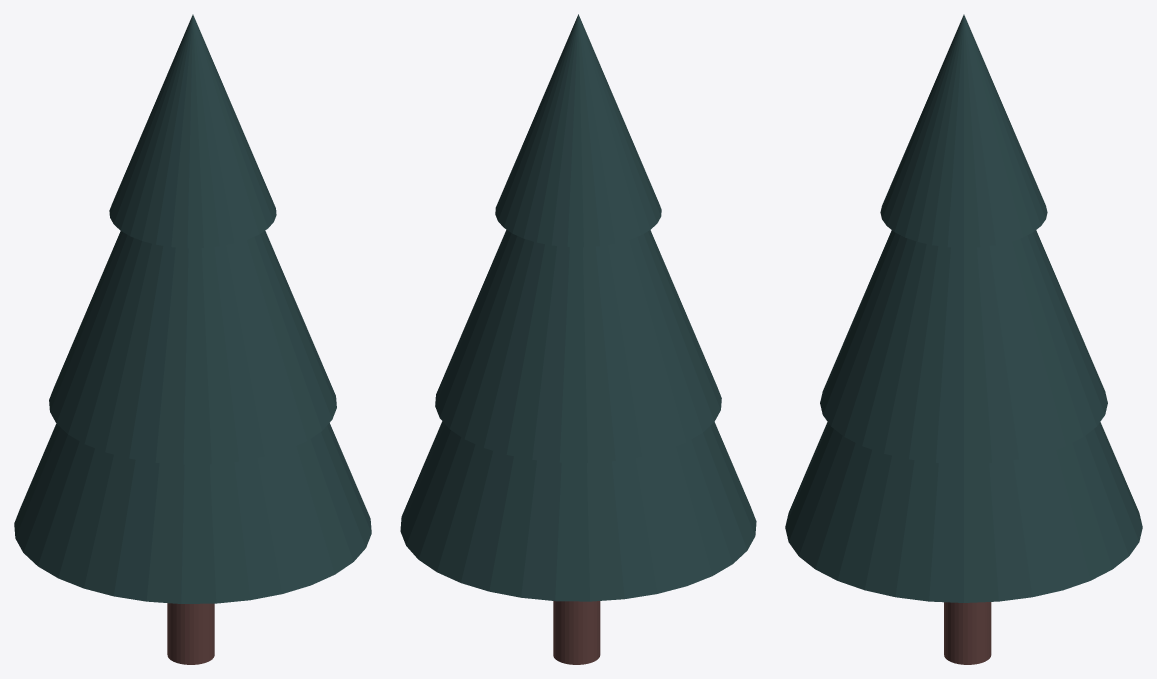
The model's file is PINETREE.fbx.
3 renders of one model, left to right at view 1: azimuth 30°, elevation 25°; view 2: azimuth 150°, elevation 25°; view 3: azimuth 270°, elevation 25°, orthographic.
Visible parts, largest first — view 1: Cone, Cylinder; view 2: Cone, Cylinder; view 3: Cone, Cylinder.
Part boxes in pixels (<box>): Cone: <box>14,14,371,603</box>; Cylinder: <box>167,603,214,664</box>; Cone: <box>400,14,756,601</box>; Cylinder: <box>553,601,600,664</box>; Cone: <box>785,14,1142,602</box>; Cylinder: <box>944,602,991,664</box>.
Bounding box in the file's own units: 428 × 846 × 428.
Materials: 2 (2 with a texture image).
